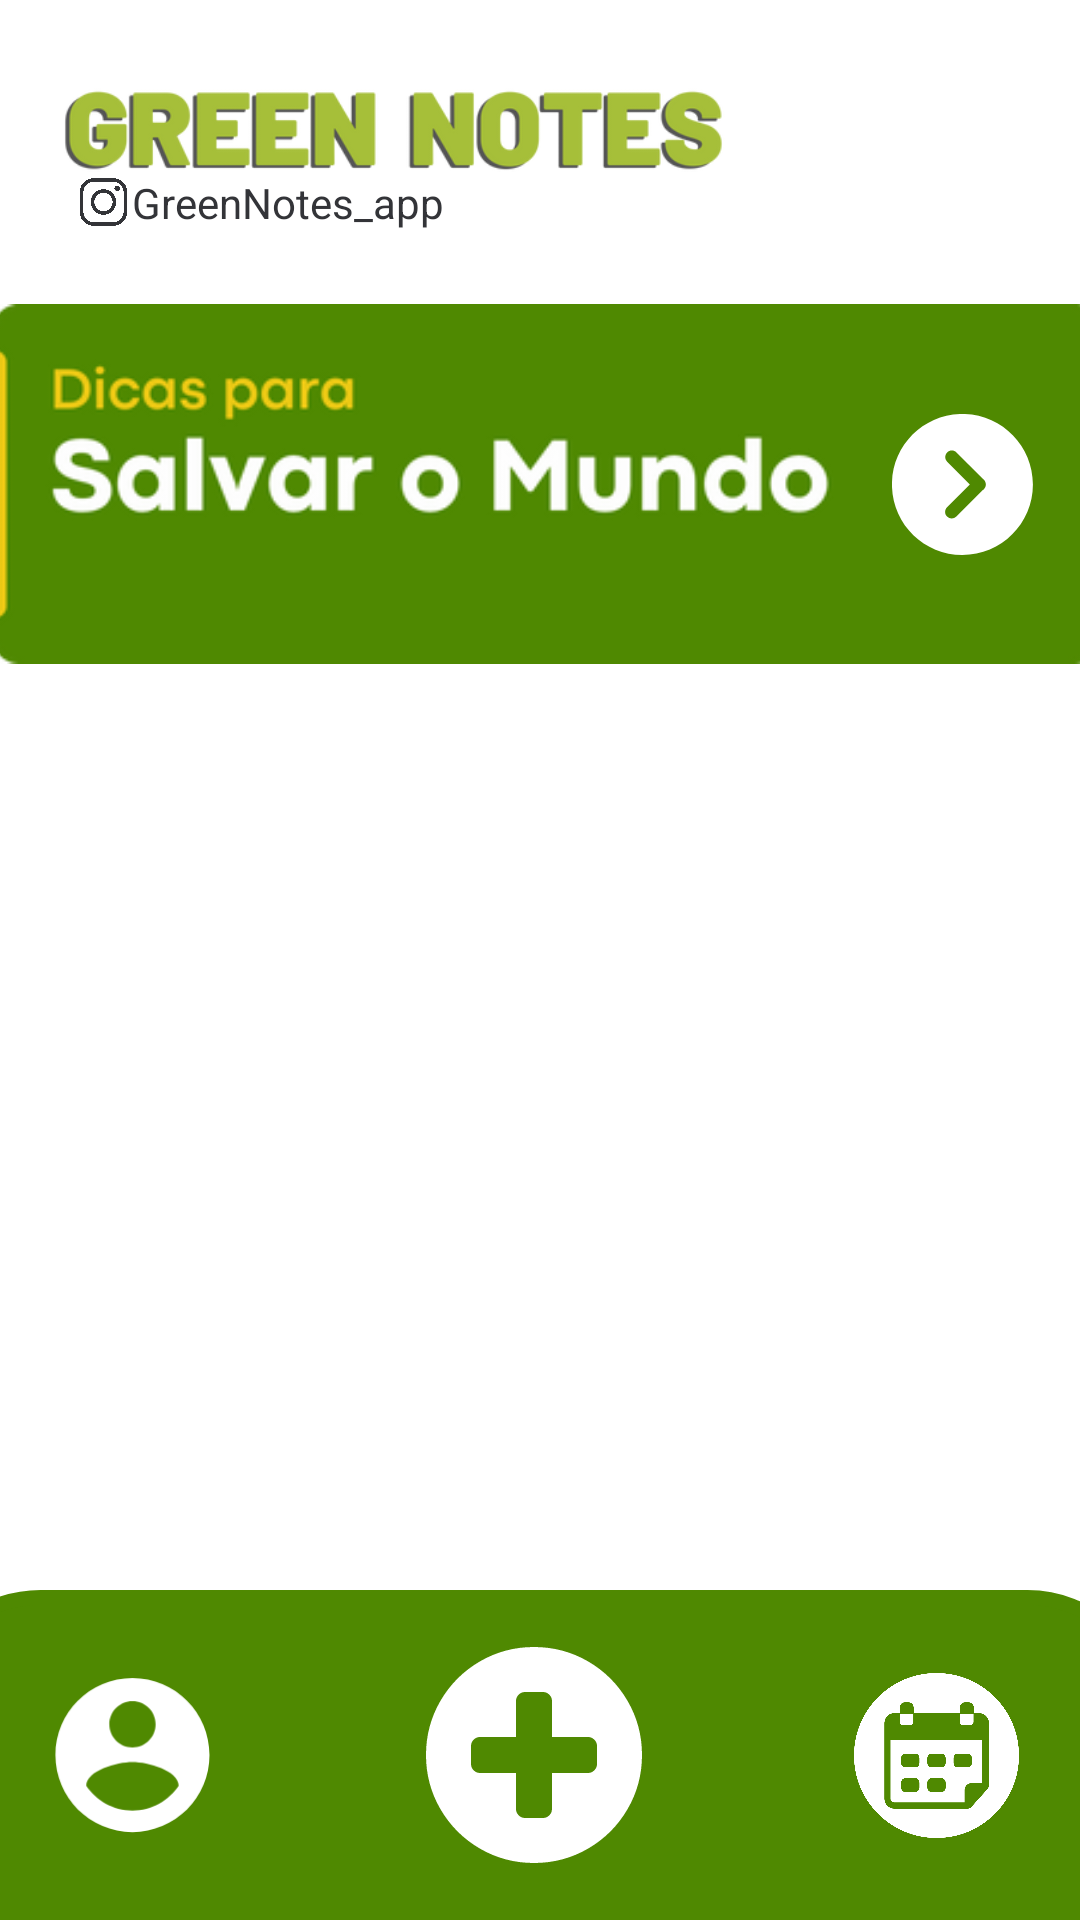

Screen size 1080*1920. Icon name, then its box in pixels as (x1, y1, x2, y2):
calendar: (854, 1673, 1019, 1838)
perfil: (55, 1678, 210, 1833)
plus: (426, 1647, 642, 1863)
